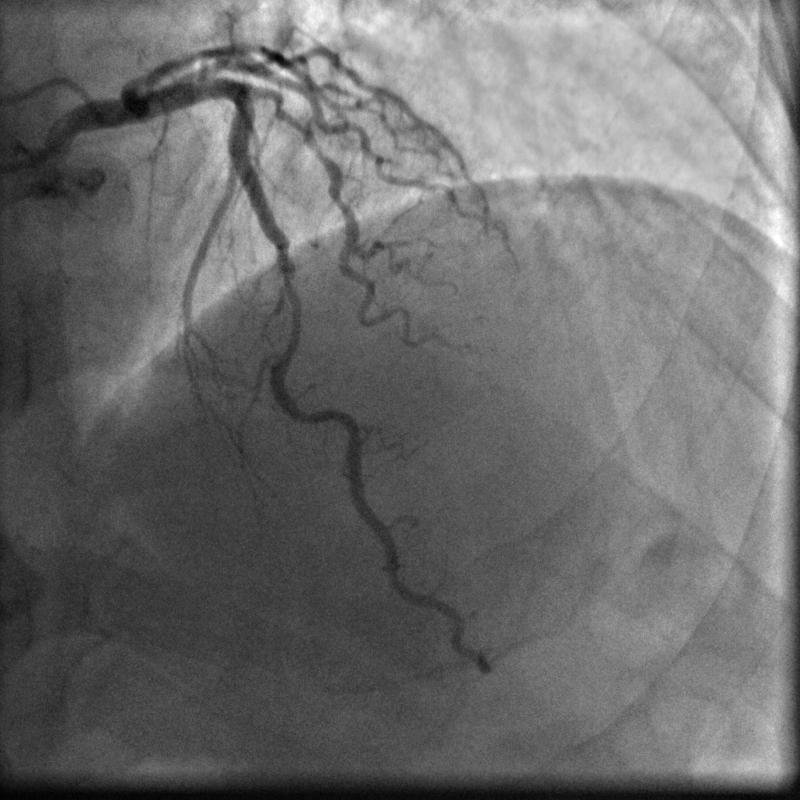Stenosis: (273, 261, 307, 358)
